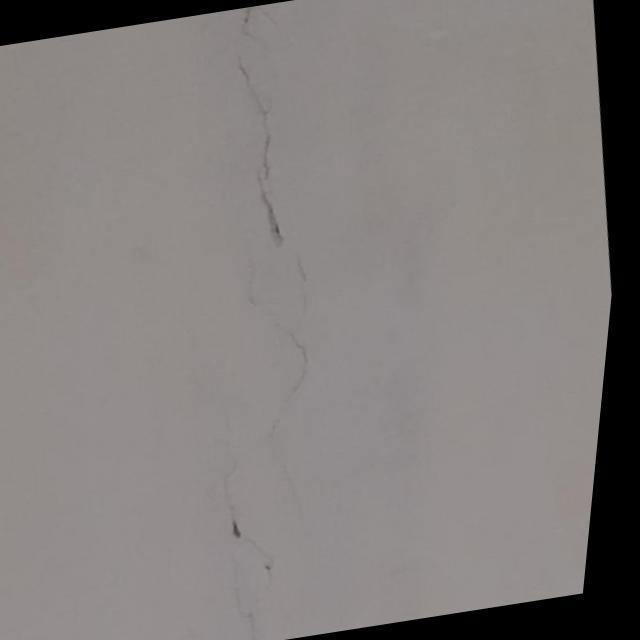Crack: (218, 16, 286, 257)
